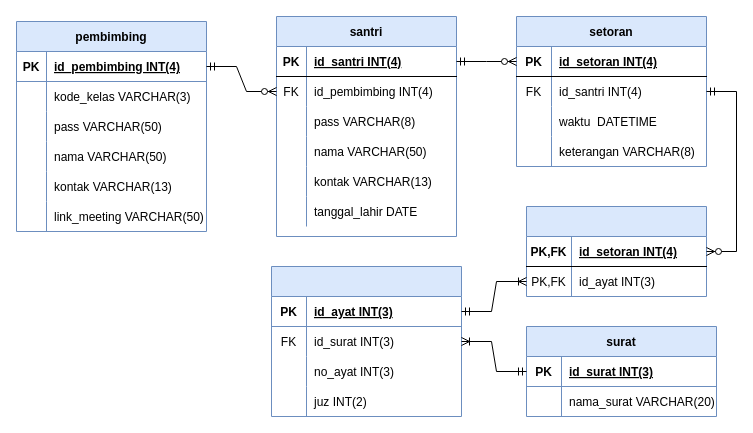
Image size: 753x433. Some labels were removed from this diagram. Here are the shapes that lost their labels. From the top down, the box of each, then its label:
(526, 206, 706, 296): item_setoran
(270, 266, 462, 416): ayat_surat
